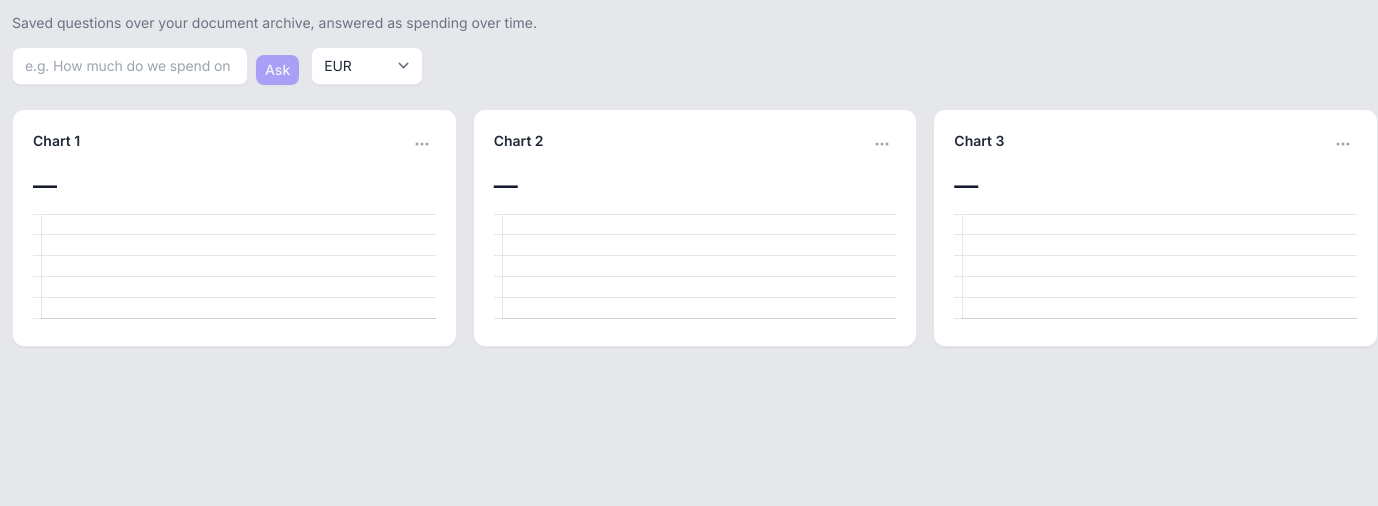
Scenario: SpendingBoardView › shows an inline error on the card when delete fails, not a page banner
Click the button with test id "spending-card-menu": (422, 144) [408,130,436,158]
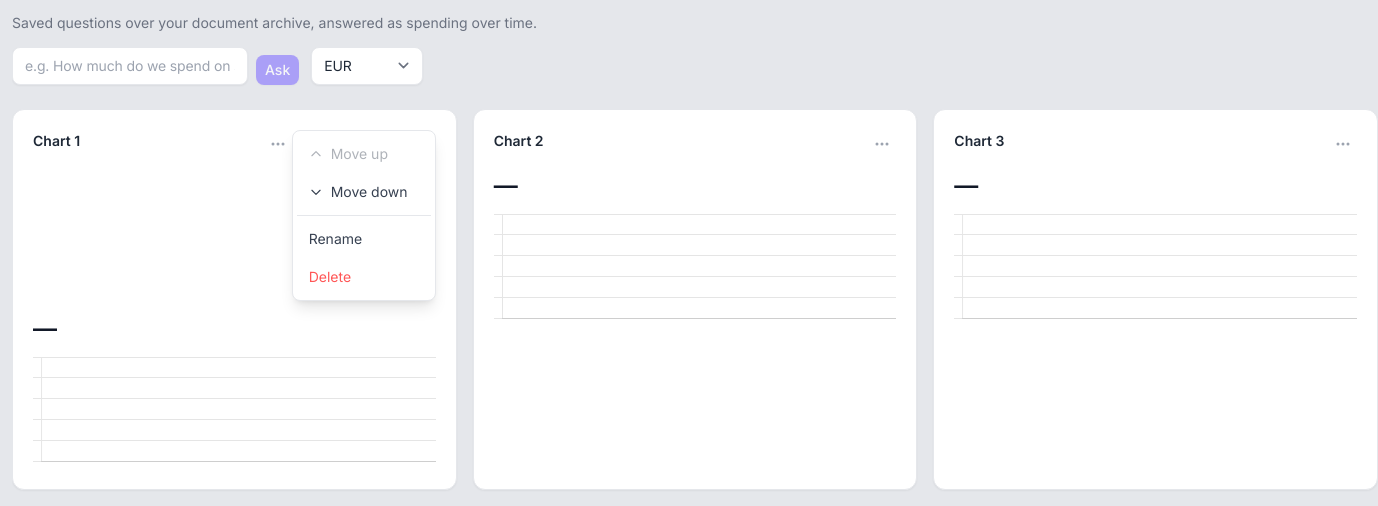
Click the menu item with test id "spending-card-delete": (364, 277) [297,258,431,296]
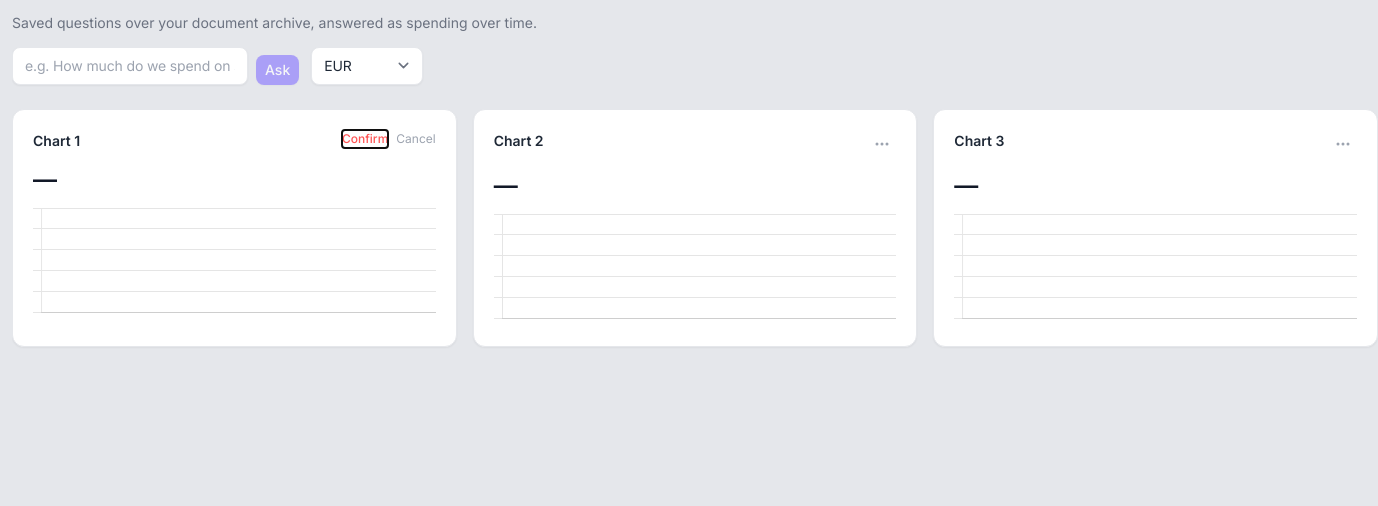
Click the button with test id "spending-card-delete-confirm": (365, 139) [342,130,388,148]
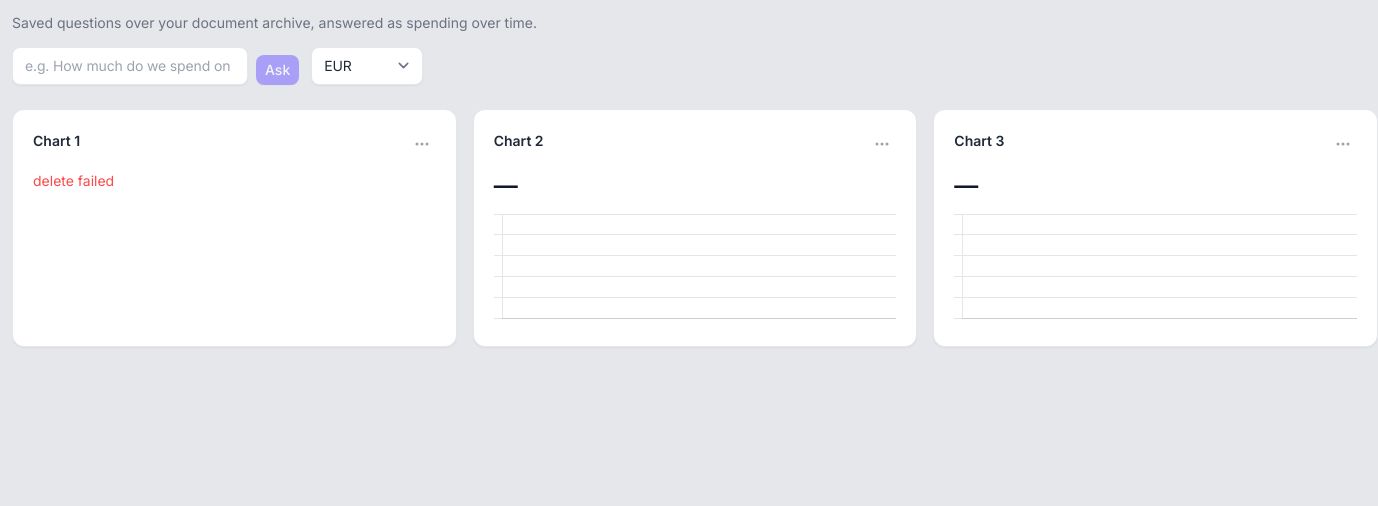
Expected: the number of elements with test id "spending-card" is 3, [12,109,457,347]; [473,109,917,347]; [933,109,1377,347]
Expected: the element with test id "spending-card" shows "delete failed", [33,172,114,189]
